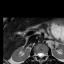CCS_normal: (39, 50, 42, 60)
LFS_normal: (44, 50, 46, 58)
LLS_normal: (42, 50, 44, 59)
RFS_normal: (35, 50, 37, 57)
RLS_normal: (37, 50, 39, 59)
